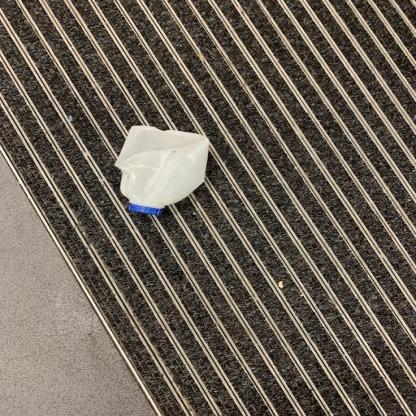trash: (115, 124, 212, 221)
